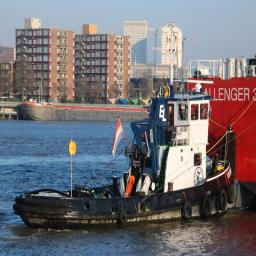tugboat: (13, 78, 241, 237)
